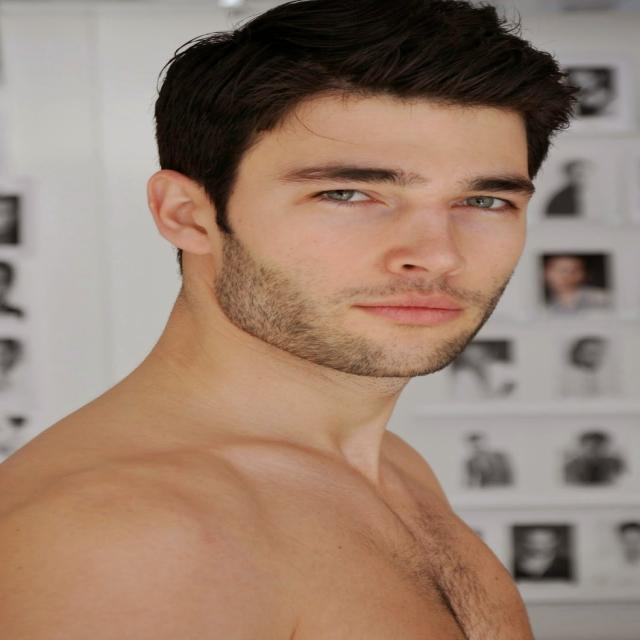front: (232, 98, 533, 372)
